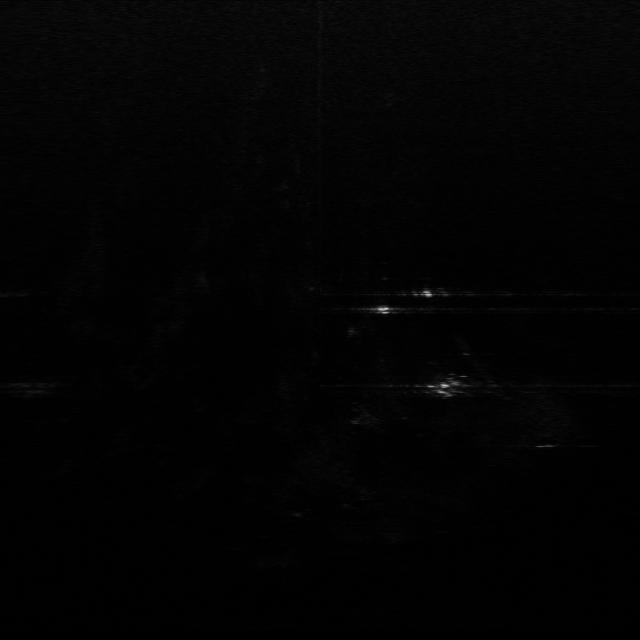rov: (427, 380, 467, 400)
